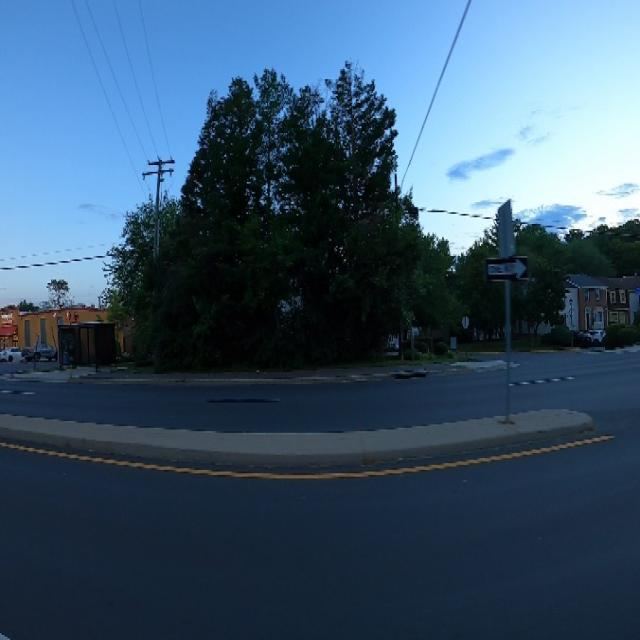cars: (25, 337, 58, 369), (0, 337, 26, 367)
